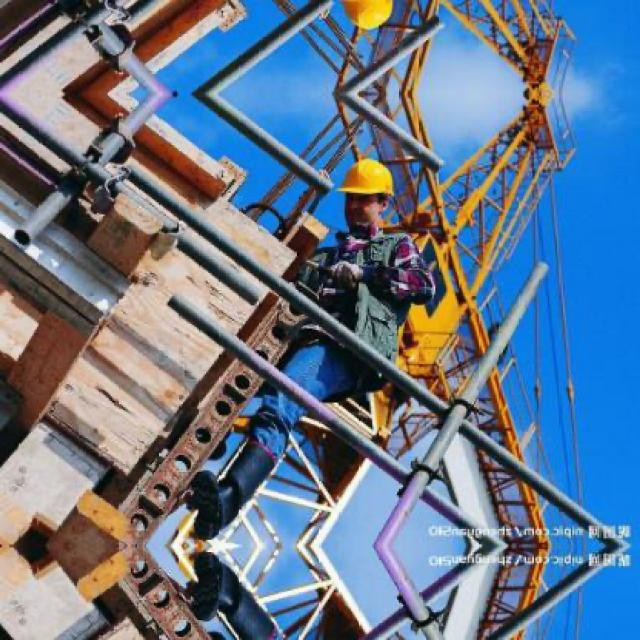helmet: (340, 153, 400, 228), (340, 0, 402, 37)
